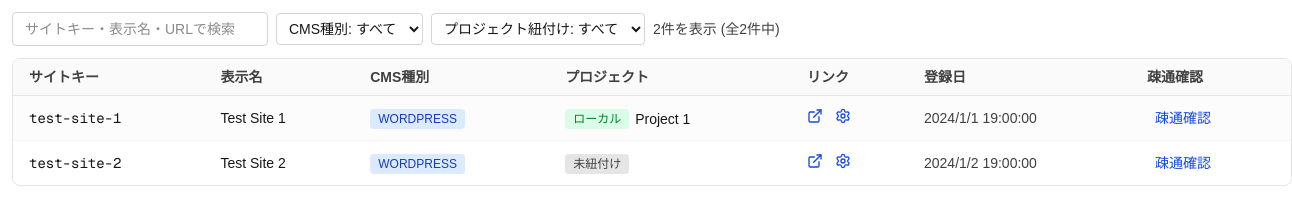
Test case: SiteListTable › filters sites by search text
Type "Test Site 1" into the field with placeholder "サイトキー・表示名・URLで検索" at (140, 29), box top-left (12, 12), bottom-right (268, 46)
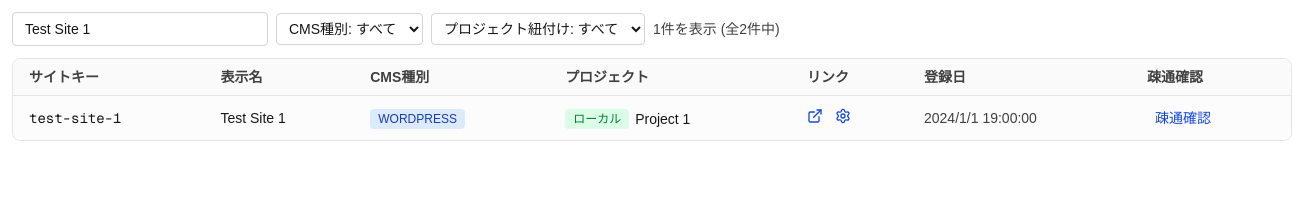
Check: the text "Test Site 1" is shown, box top-left (204, 96), bottom-right (354, 140)
Check: the text "Test Site 2" is gone
